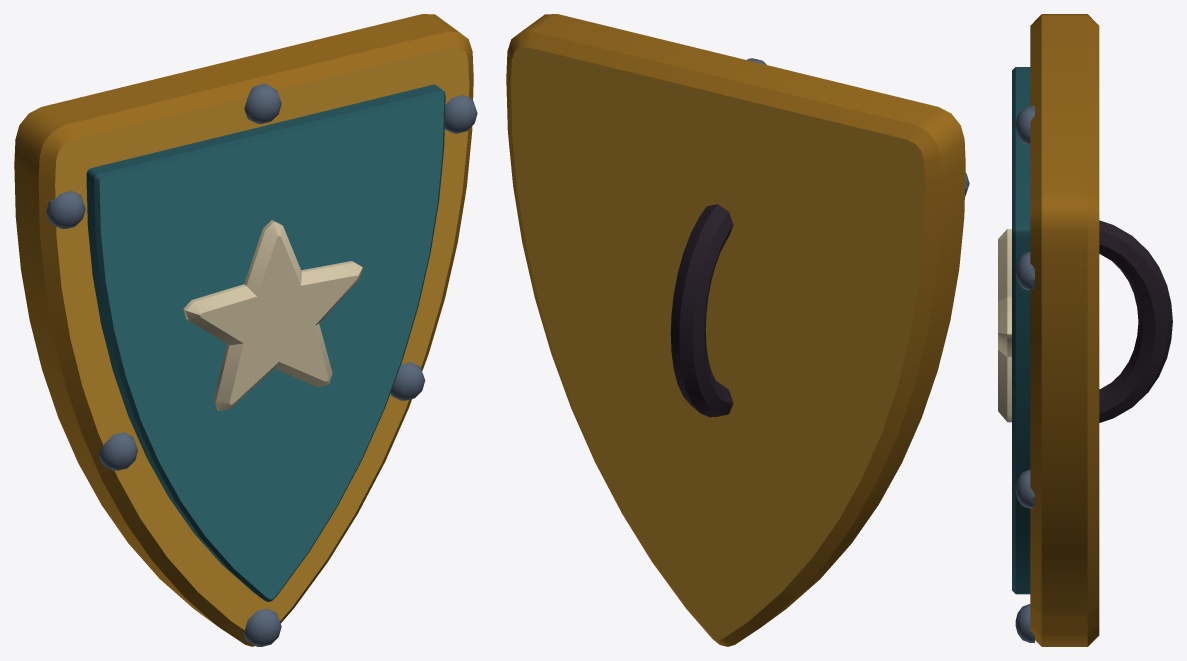
Rendered from HeaterShield_11.glb.
3 views of the same model, side by side, from view 1: azimuth 30°, elevation 25°; view 2: azimuth 150°, elevation 25°; view 3: azimuth 270°, elevation 25° (orthographic). The views are drawn at different scales.
Visible parts, largest first — view 1: HeaterShield_11; view 2: HeaterShield_11; view 3: HeaterShield_11.
Boxes of the visible parts, left/top/right/bottom form: HeaterShield_11: left=14, top=14, right=477, bottom=646; HeaterShield_11: left=506, top=14, right=969, bottom=646; HeaterShield_11: left=998, top=14, right=1172, bottom=646.
Bounding box in the file's own units: 2.08 × 2.59 × 0.76.
